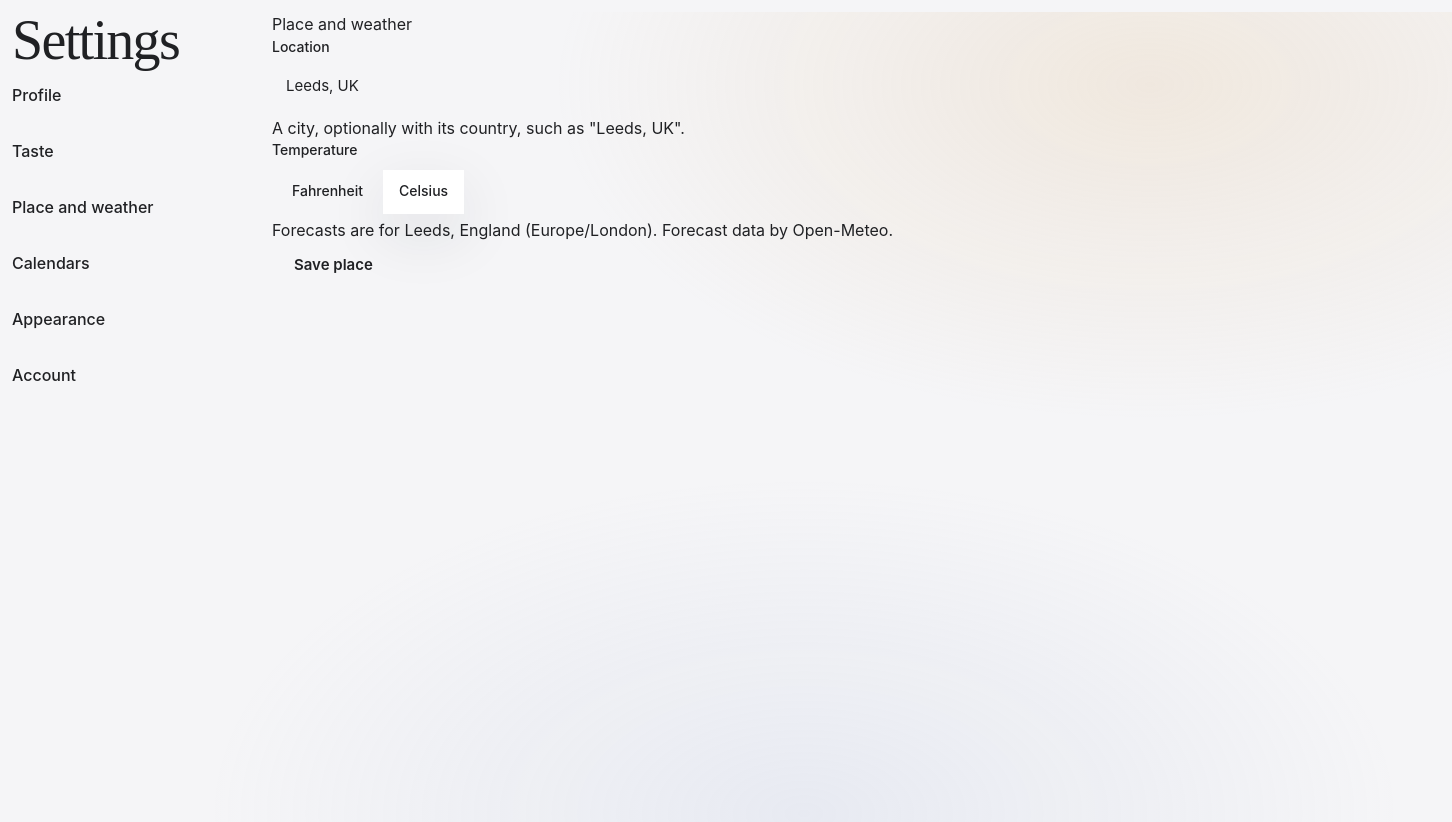
Test: save payloads › shows a section error under its button and keeps values
Replace the text in the field labelled "Location" with "Nowhere" at (592, 86), box [272,62,912,110]
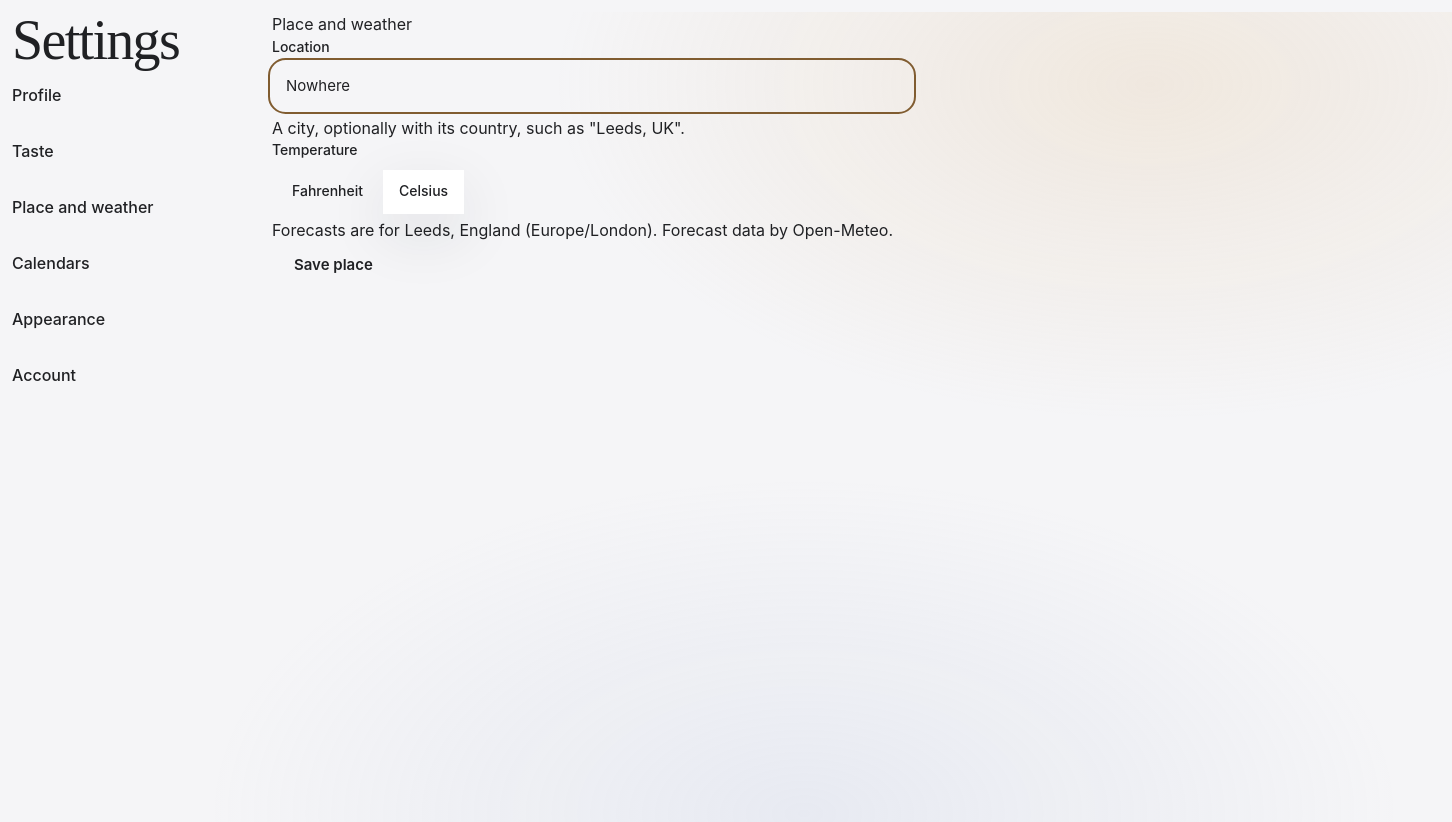
Click the button "Save place" at (333, 265), box [272,243,395,287]
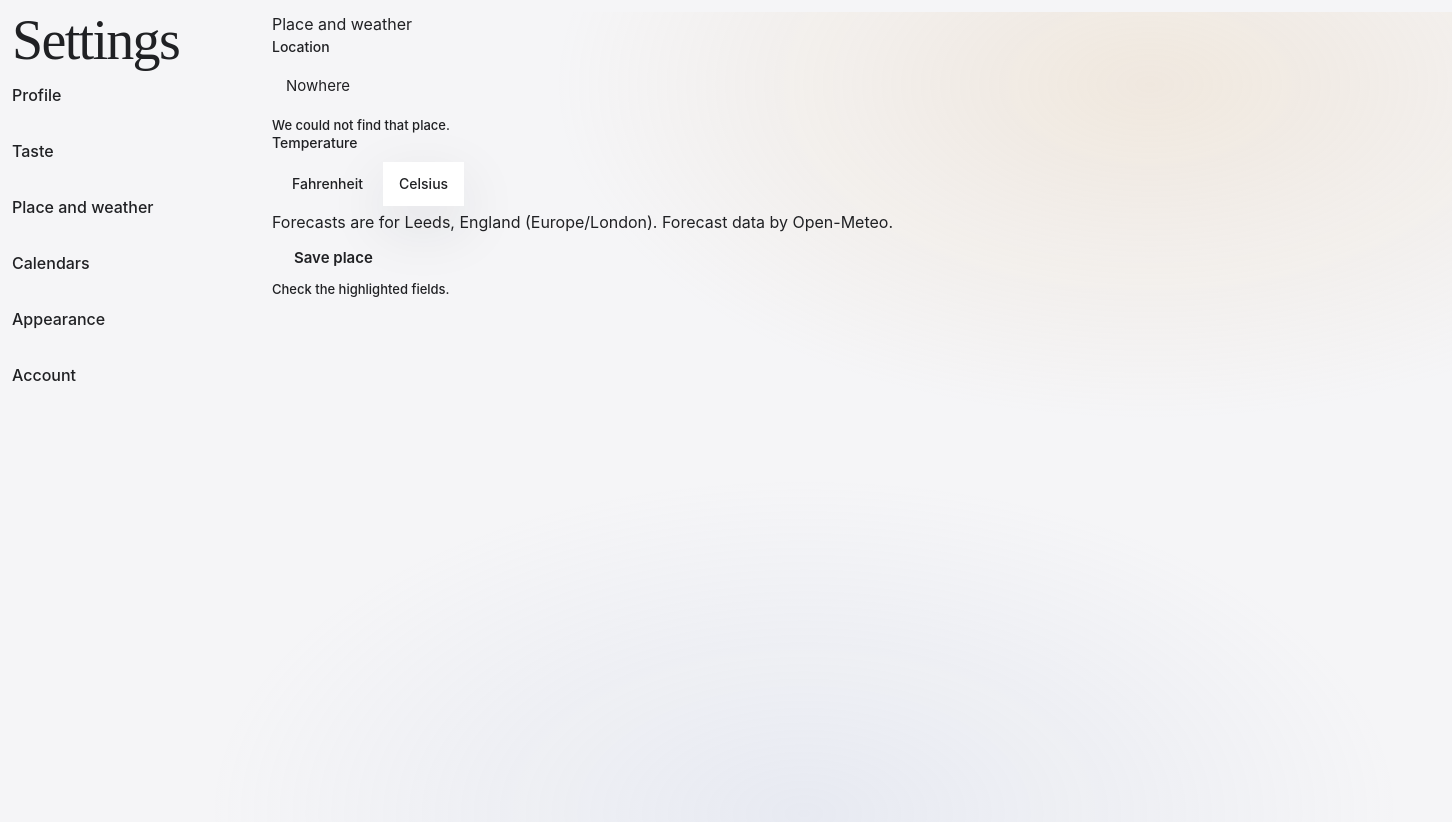
Now the text "We could not find that place." is shown, box [272,117,450,133]
